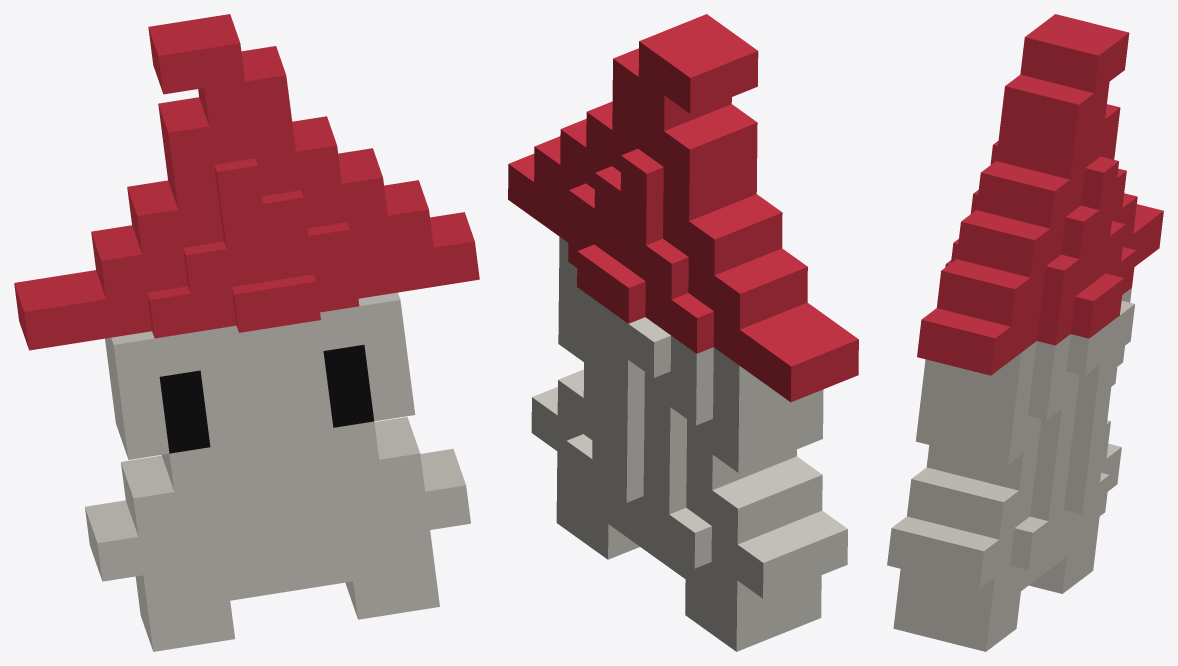
The model's file is wellspring-f6af58e463.glb.
The picture shows the model from 3 angles, left to right: view 1: azimuth 30°, elevation 25°; view 2: azimuth 150°, elevation 25°; view 3: azimuth 270°, elevation 25°; orthographic projection. The views are drawn at different scales.
Size of the model in its own units: 4 by 5.65 by 2.51.
